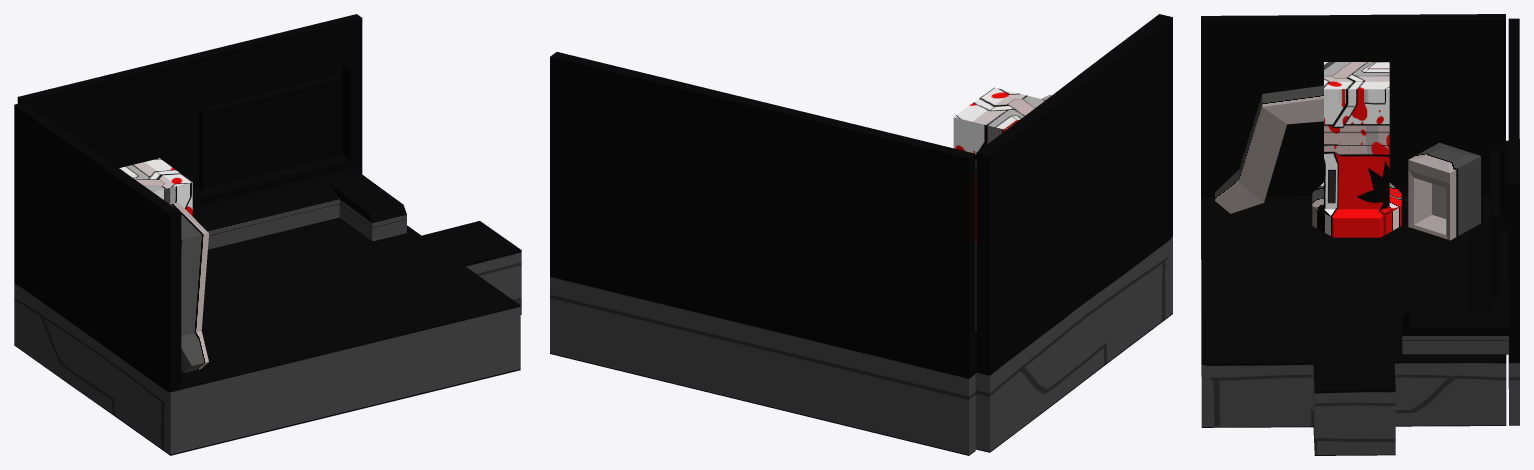
Rendered from room4.fbx.
3 views of the same model, side by side, from view 1: azimuth 30°, elevation 25°; view 2: azimuth 150°, elevation 25°; view 3: azimuth 270°, elevation 25° (orthographic). The views are drawn at different scales.
Parts seen in each view (by area): view 1: floor, wall1, wall2, console, karmixer; view 2: wall1, wall2, floor, karmixer; view 3: floor, wall2, karmixer, console, insert, wall1.
Boxes of the visible parts, x1,y1,x2,y2 form: floor: (14,202,521,455); wall1: (17,14,362,207); wall2: (14,102,181,390); console: (192,65,406,249); karmixer: (119,158,192,215); wall1: (550,52,975,455); wall2: (976,14,1172,372); floor: (975,94,1172,452); karmixer: (953,87,1045,242); floor: (1201,85,1506,455); wall2: (1201,14,1505,197); karmixer: (1312,62,1401,237); console: (1402,140,1508,354); insert: (1408,142,1480,240); wall1: (1508,18,1519,425).
Bounding box in the file's own units: 666 × 372 × 446.
